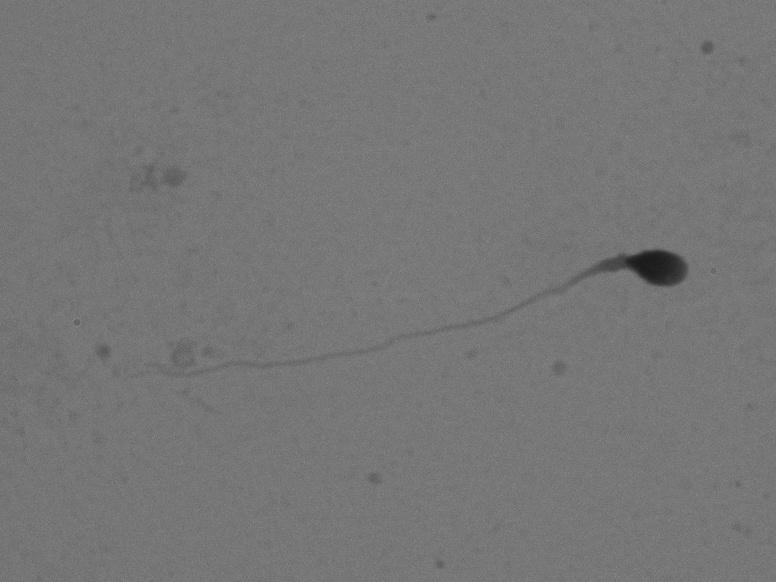Abnormal: (78, 213, 720, 417)
